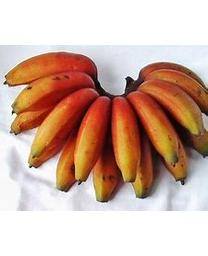banana: (3, 50, 207, 203)
